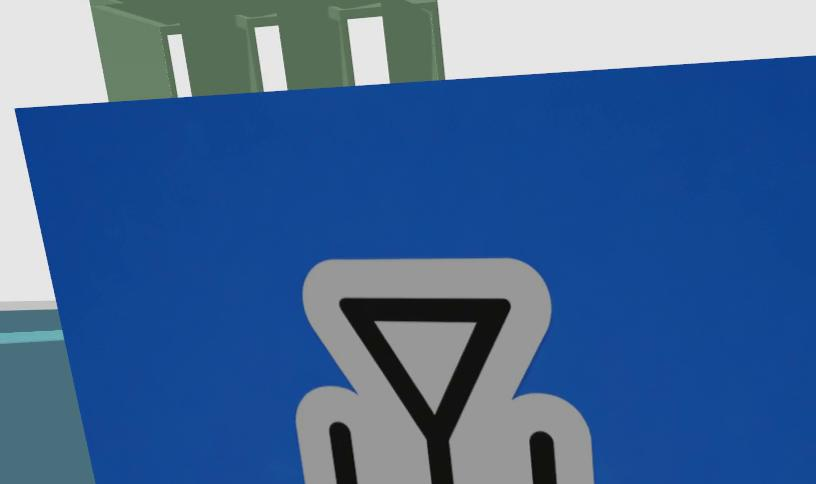KFS_REAL: (14, 51, 816, 484), (297, 260, 592, 484)
